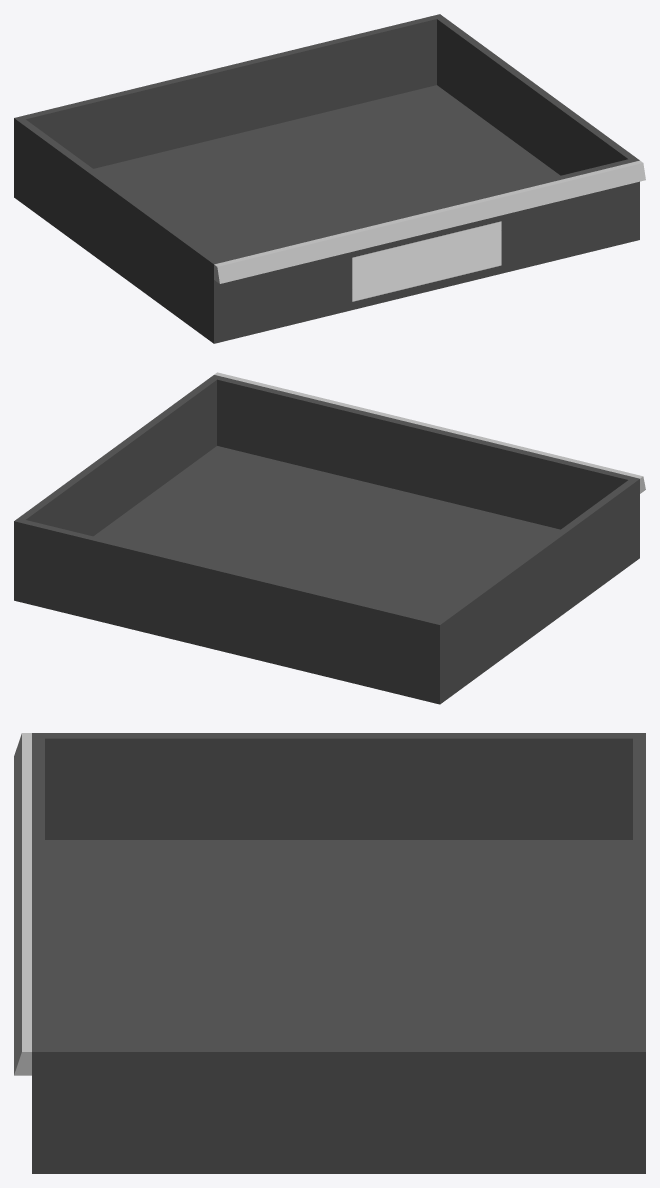
Rendered from MedCartDrawerSplit2.fbx.
3 renders of one model, top to bottom at view 1: azimuth 30°, elevation 25°; view 2: azimuth 150°, elevation 25°; view 3: azimuth 270°, elevation 25°, orthographic. The views are drawn at different scales.
Parts seen in each view (by area): view 1: Drawer, Drawer.004, Back, Drawer.008, Drawer.007, Handle; view 2: Drawer, Back, Drawer.004, Drawer.008, Drawer.007, Handle; view 3: Drawer, Drawer.007, Drawer.008, Handle, Back, Drawer.004.
Boxes of the visible parts, x1=… form: Drawer: x1=18, y1=85, x2=560, y2=340; Drawer.004: x1=209, y1=157, x2=639, y2=343; Back: x1=14, y1=14, x2=443, y2=200; Drawer.008: x1=18, y1=119, x2=216, y2=326; Drawer.007: x1=437, y1=17, x2=635, y2=175; Handle: x1=214, y1=160, x2=645, y2=283; Drawer: x1=93, y1=446, x2=635, y2=700; Back: x1=14, y1=518, x2=444, y2=704; Drawer.004: x1=210, y1=375, x2=639, y2=560; Drawer.008: x1=437, y1=480, x2=635, y2=687; Drawer.007: x1=18, y1=378, x2=216, y2=536; Handle: x1=214, y1=372, x2=645, y2=493; Drawer: x1=45, y1=840, x2=632, y2=1173; Drawer.007: x1=45, y1=1046, x2=632, y2=1153; Drawer.008: x1=45, y1=733, x2=632, y2=839; Handle: x1=14, y1=733, x2=31, y2=1075; Back: x1=633, y1=733, x2=645, y2=1173; Drawer.004: x1=32, y1=733, x2=44, y2=1173.
Size of the model in its own units: 83.52 by 14.88 by 69.92.
